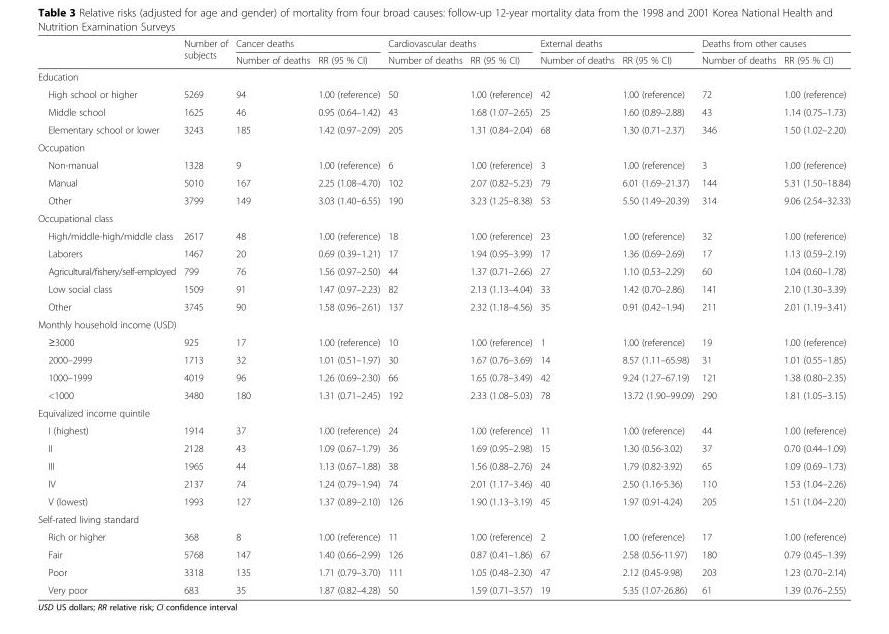table: (37, 37, 849, 595)
table column: (37, 37, 179, 595), (231, 37, 313, 595), (383, 37, 465, 595), (535, 37, 617, 595), (697, 37, 779, 595), (617, 37, 697, 595), (313, 37, 383, 595), (465, 37, 535, 595), (779, 37, 849, 595), (179, 37, 231, 595)
table column header: (37, 37, 849, 67)
table projected row header: (37, 67, 849, 85), (37, 403, 849, 421), (37, 509, 849, 527), (37, 138, 849, 155), (37, 209, 849, 226), (37, 315, 849, 332)
table row: (37, 67, 849, 85), (37, 102, 849, 120), (37, 120, 849, 138), (37, 155, 849, 173), (37, 173, 849, 191), (37, 191, 849, 209), (37, 226, 849, 244), (37, 244, 849, 262), (37, 279, 849, 297), (37, 297, 849, 315), (37, 332, 849, 350), (37, 350, 849, 368), (37, 368, 849, 386), (37, 403, 849, 421), (37, 421, 849, 439), (37, 456, 849, 474), (37, 474, 849, 492), (37, 509, 849, 527), (37, 527, 849, 545), (37, 545, 849, 563), (37, 85, 849, 102), (37, 138, 849, 155), (37, 209, 849, 226), (37, 262, 849, 279), (37, 315, 849, 332), (37, 386, 849, 403), (37, 439, 849, 456), (37, 492, 849, 509), (37, 563, 849, 580), (37, 51, 849, 67), (37, 580, 849, 595), (37, 37, 849, 51)
table spanning cell: (535, 37, 697, 51), (231, 37, 383, 51), (383, 37, 535, 51), (697, 37, 849, 51), (179, 37, 231, 67)
